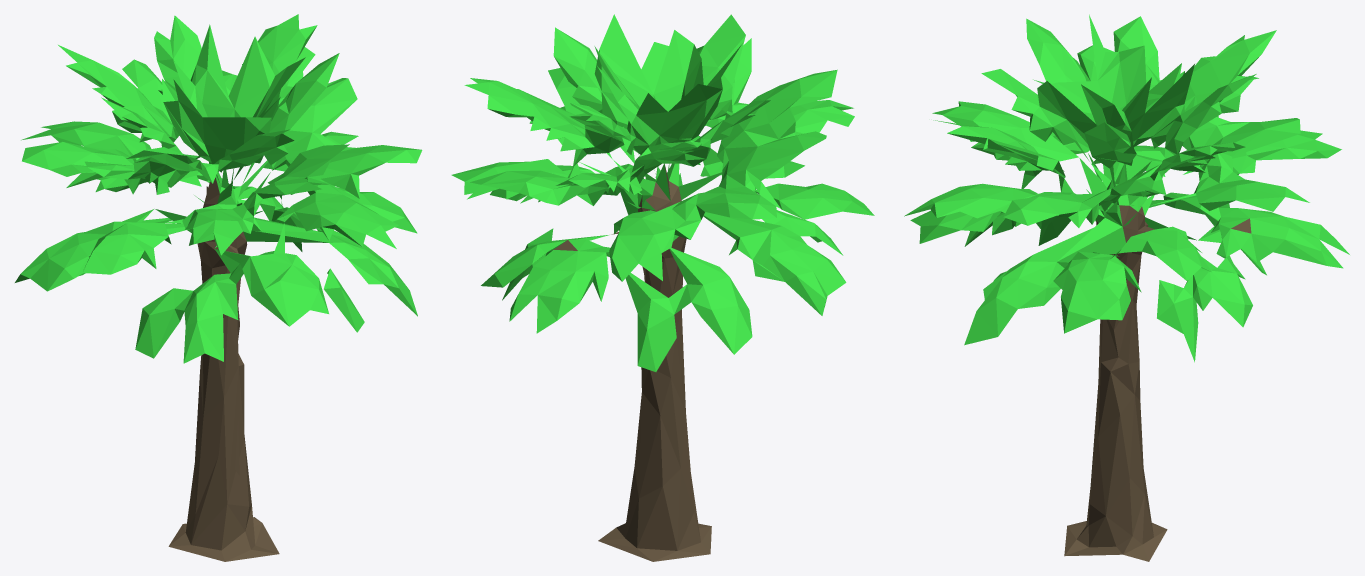
File: Tree_5-col.glb
3 renders of one model, left to right at view 1: azimuth 30°, elevation 25°; view 2: azimuth 150°, elevation 25°; view 3: azimuth 270°, elevation 25°, orthographic. The views are drawn at different scales.
Parts seen in each view (by area): view 1: geometry_0.005; view 2: geometry_0.005; view 3: geometry_0.005.
Boxes of the visible parts, x1,y1,x2,y2 form: geometry_0.005: (15, 14, 422, 561); geometry_0.005: (451, 14, 874, 561); geometry_0.005: (904, 14, 1349, 561).
Bounding box in the file's own units: 1.51 × 2 × 1.64.
